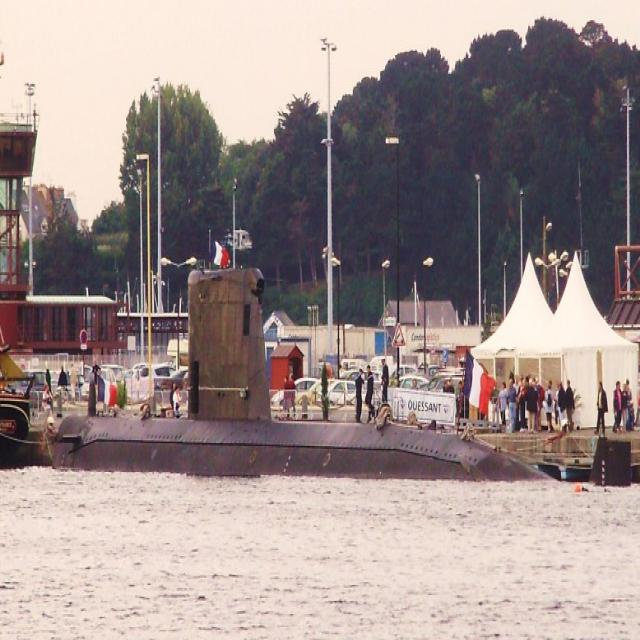submarine: (52, 270, 633, 485)
